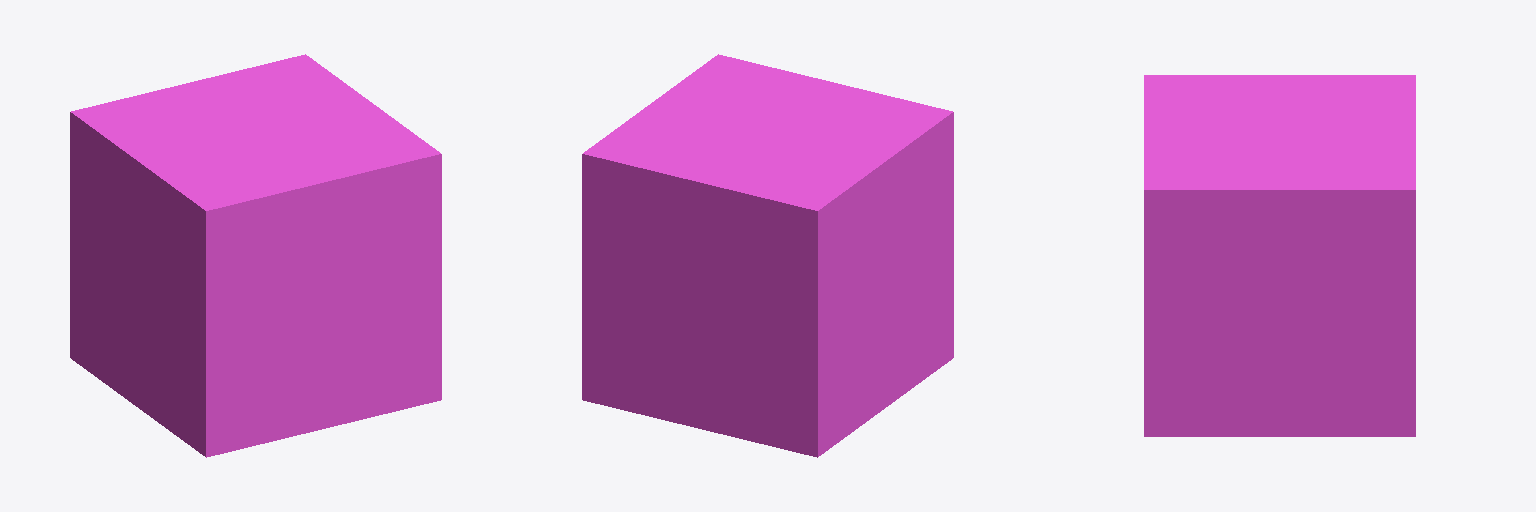
3 renders of one model, left to right at view 1: azimuth 30°, elevation 25°; view 2: azimuth 150°, elevation 25°; view 3: azimuth 270°, elevation 25°, orthographic.
Visible parts, largest first — view 1: object 1; view 2: object 1; view 3: object 1.
Boxes of the visible parts, x1,y1,x2,y2 form: object 1: [70, 54, 441, 457]; object 1: [582, 54, 953, 457]; object 1: [1144, 75, 1415, 436].
Size of the model in its own units: 1 by 1 by 1.
Materials: 1 (1 with a texture image).